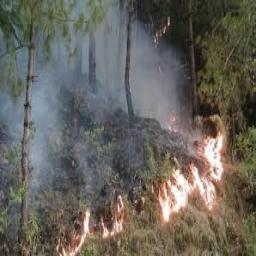Low smoke: (8, 3, 185, 166)
Small fire: (195, 124, 230, 208), (153, 167, 196, 220), (87, 196, 132, 238), (48, 227, 91, 256)
